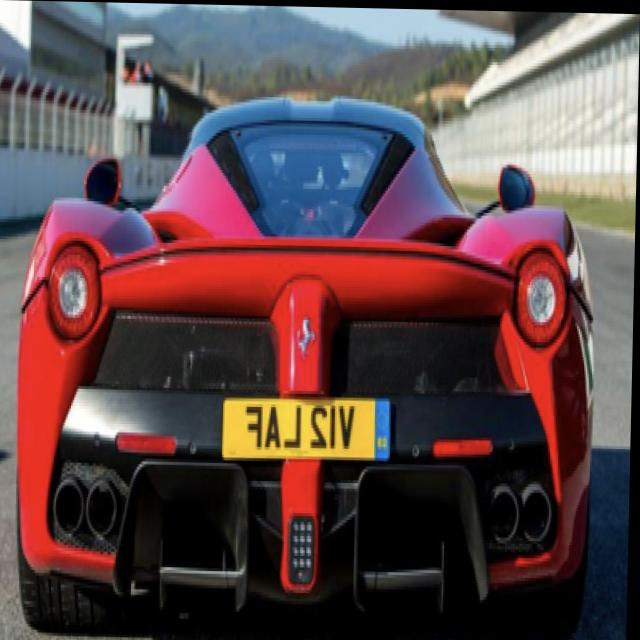licence: (238, 397, 366, 456)
